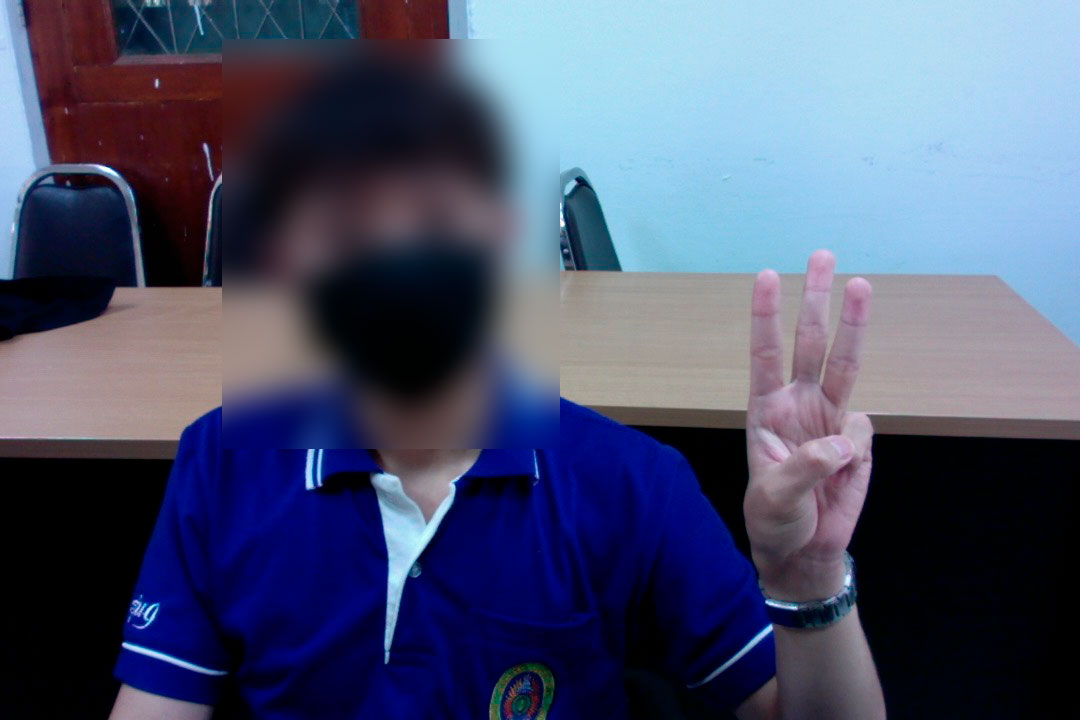wor: (726, 242, 881, 577)
